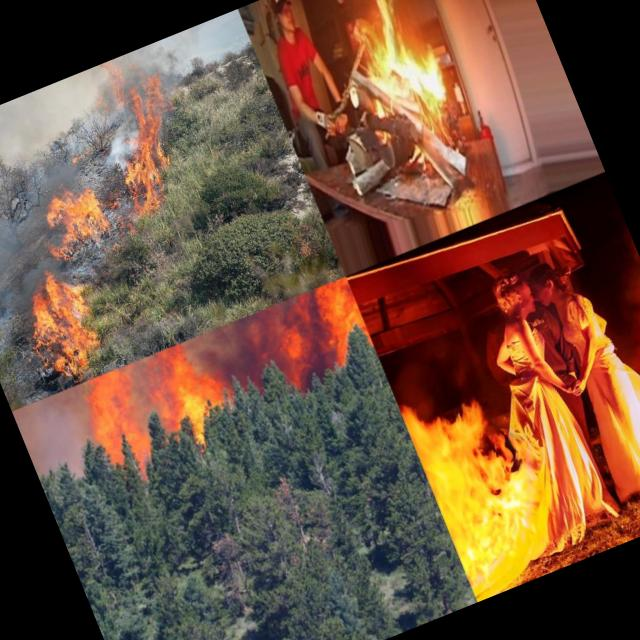fire: (397, 358, 553, 516), (323, 0, 466, 136), (442, 472, 582, 602), (14, 266, 110, 382), (30, 178, 125, 270), (146, 337, 228, 440), (69, 365, 154, 461), (264, 292, 339, 394), (304, 276, 376, 370), (121, 138, 202, 206), (118, 72, 185, 154), (99, 58, 125, 90)
smoke: (0, 79, 100, 210), (12, 388, 98, 481), (114, 16, 228, 84), (200, 310, 285, 392), (0, 205, 56, 300), (67, 65, 116, 125), (92, 120, 144, 171)
